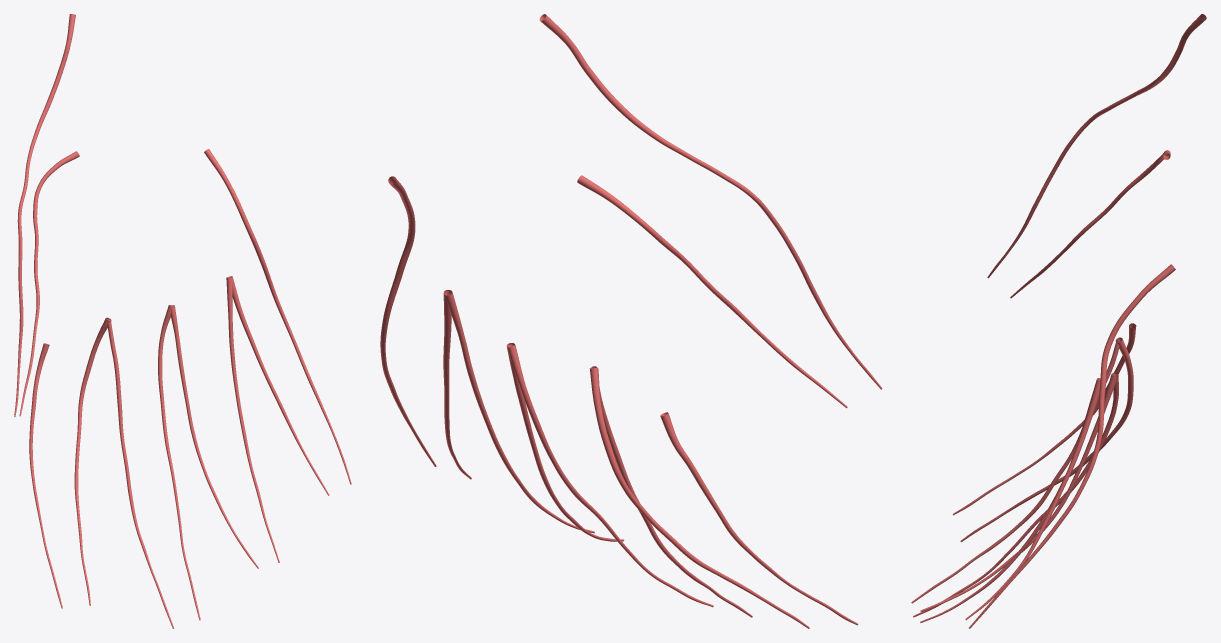
Rendered from Proper_palmar_digital_arteries.r_BezierCurve.353.glb.
3 renders of one model, left to right at view 1: azimuth 30°, elevation 25°; view 2: azimuth 150°, elevation 25°; view 3: azimuth 270°, elevation 25°, orthographic. The views are drawn at different scales.
Visible parts, largest first — view 1: Proper_palmar_digital_arteries.r_BezierCurve.353; view 2: Proper_palmar_digital_arteries.r_BezierCurve.353; view 3: Proper_palmar_digital_arteries.r_BezierCurve.353.
Part boxes in pixels (x1,y1,x2,y2): Proper_palmar_digital_arteries.r_BezierCurve.353: (14,14,351,628); Proper_palmar_digital_arteries.r_BezierCurve.353: (380,14,882,628); Proper_palmar_digital_arteries.r_BezierCurve.353: (911,14,1206,628).
Bounding box in the file's own units: 0.1071 × 0.1608 × 0.0714.
